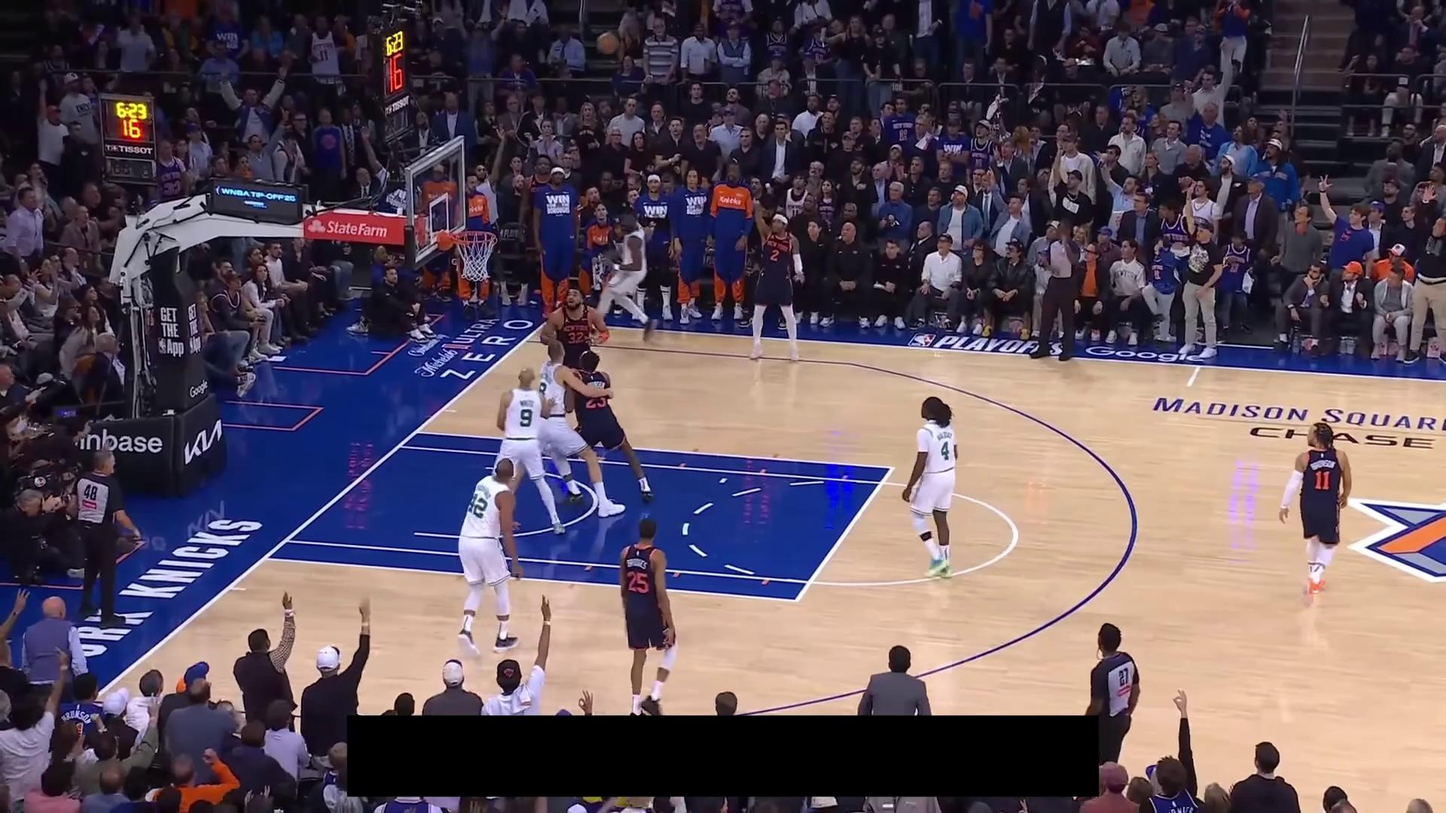ball: (597, 31, 620, 54)
number: (627, 571, 649, 594), (468, 495, 489, 519), (1314, 470, 1331, 492), (585, 395, 609, 410), (518, 407, 534, 428), (567, 330, 584, 345), (940, 440, 951, 461), (770, 248, 779, 262), (539, 381, 548, 395)
player: (550, 349, 654, 507), (536, 338, 625, 518), (1277, 419, 1353, 604), (456, 457, 524, 656), (492, 366, 567, 537), (616, 516, 680, 715), (901, 397, 962, 580), (744, 193, 805, 364), (590, 215, 658, 343), (536, 284, 611, 369)
referee: (66, 447, 139, 629), (1027, 220, 1091, 362), (1083, 623, 1142, 768)
rim: (452, 229, 498, 245)
